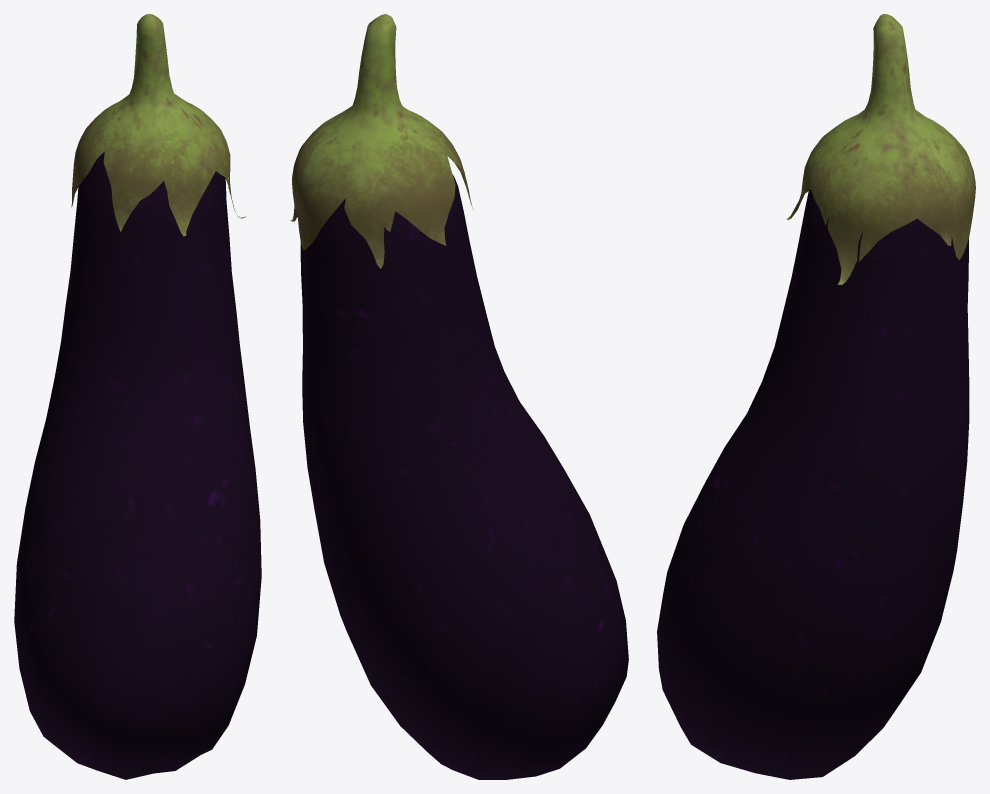
The model's file is eggplant.fbx.
The picture shows the model from 3 angles, left to right: view 1: azimuth 30°, elevation 25°; view 2: azimuth 150°, elevation 25°; view 3: azimuth 270°, elevation 25°; orthographic projection. The views are drawn at different scales.
Parts seen in each view (by area): view 1: eggplant.body; view 2: eggplant.body; view 3: eggplant.body.
Boxes of the visible parts, x1,y1,x2,y2 form: eggplant.body: (14,14,261,779); eggplant.body: (290,14,628,779); eggplant.body: (657,14,975,779).
Size of the model in its own units: 34.34 by 98.32 by 36.06.
1 material, 1 textured.
